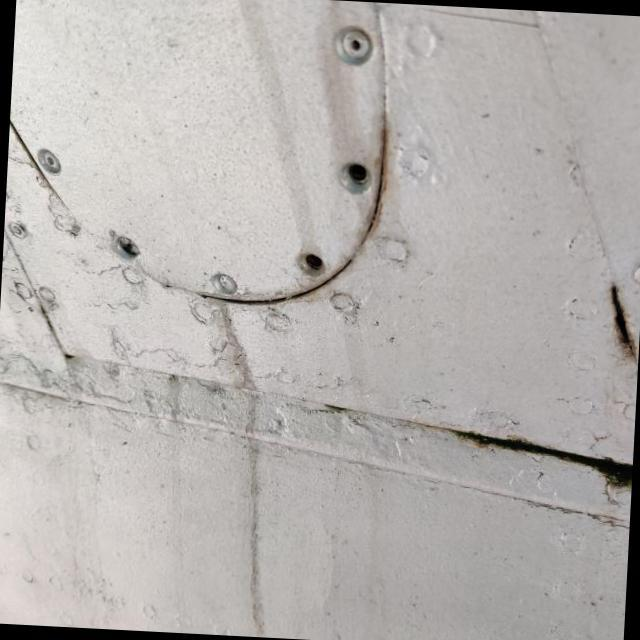Fastener Damage: (318, 145, 387, 212), (279, 235, 344, 298)
